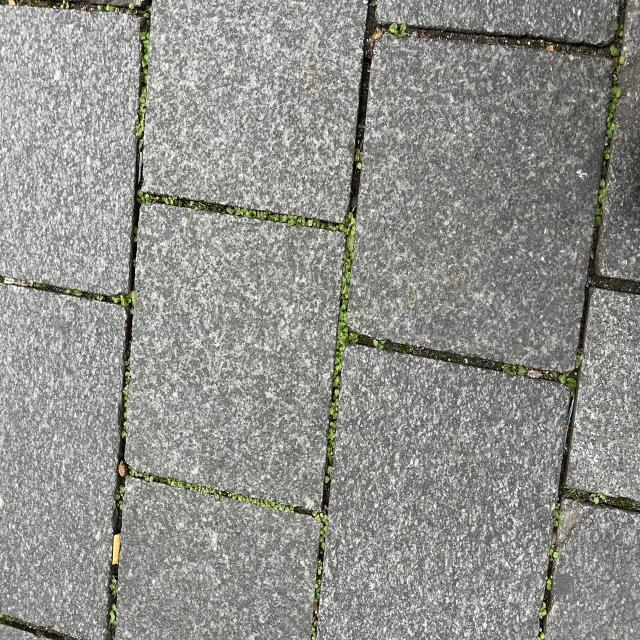pavement: (67, 297, 260, 588), (111, 16, 286, 263), (327, 159, 492, 410), (300, 464, 466, 640), (529, 390, 640, 618), (543, 40, 625, 313)
weedling: (273, 156, 311, 421)
